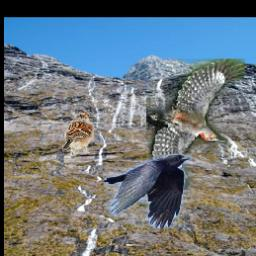Crow: (103, 154, 191, 229)
Sparrow: (61, 111, 94, 157)
Woodpecker: (146, 59, 245, 190)
